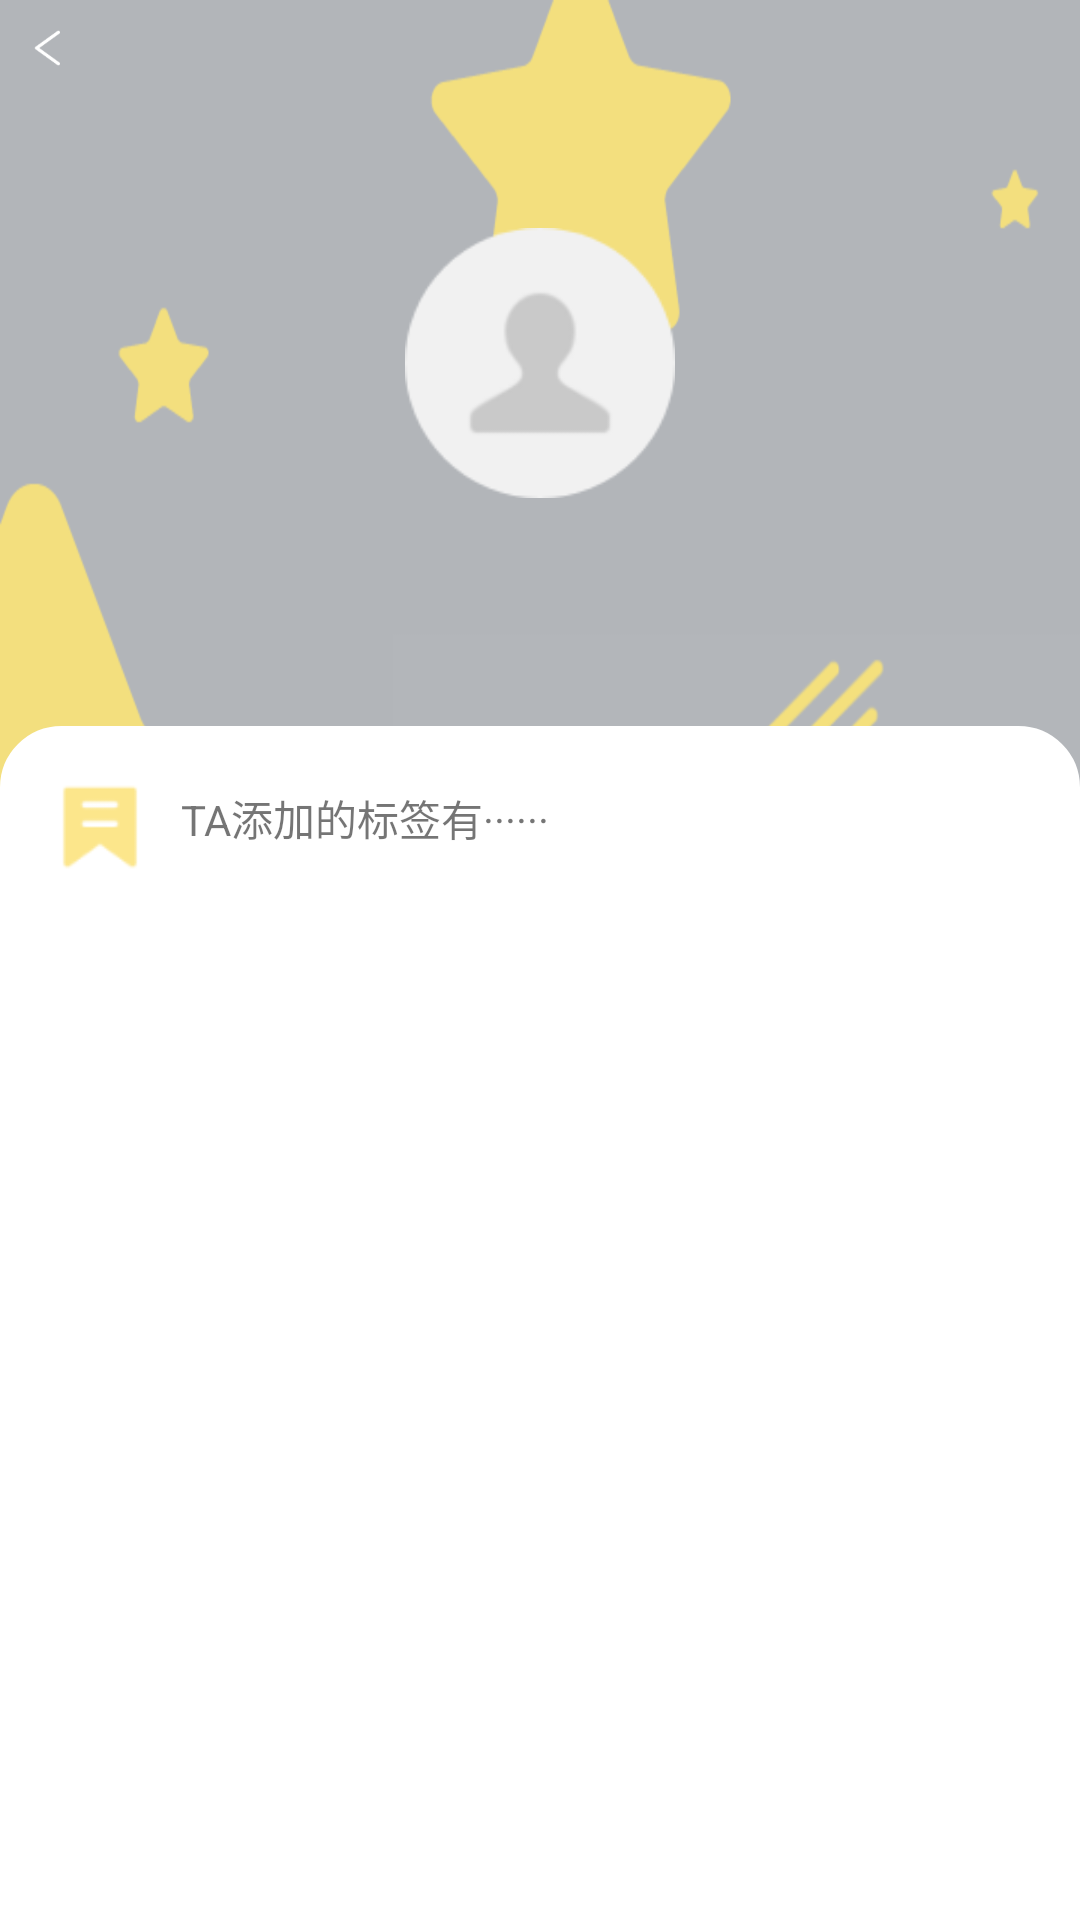

Icons on this 1080 x 1920 Android screen, each with the point to tap as (x=x, y=y):
back: (x=47, y=48)
tag: (x=100, y=827)
user profile: (x=540, y=363)
